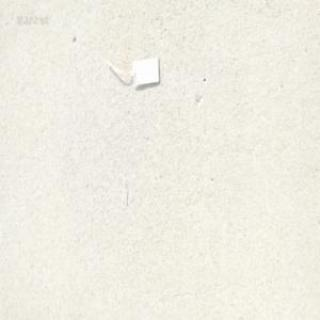LuggageTagtrack_idkeyframe: (106, 53, 162, 88)
